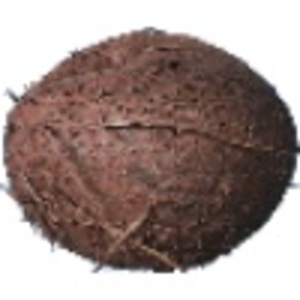coco: (1, 29, 300, 274)
